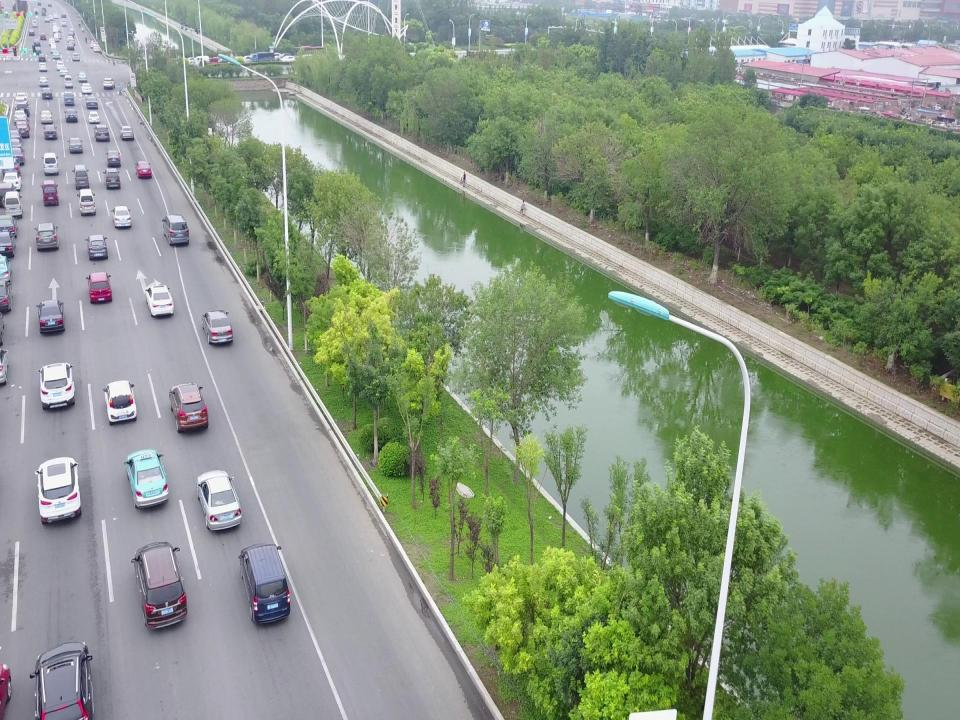bus: (296, 45, 325, 58)
car: (133, 540, 186, 627), (34, 642, 92, 720), (240, 543, 291, 624), (36, 455, 80, 522), (197, 471, 243, 531), (127, 449, 169, 509), (170, 382, 208, 430), (40, 362, 76, 409), (103, 381, 136, 424), (200, 310, 234, 343), (162, 213, 190, 244), (88, 270, 114, 303), (145, 285, 173, 315), (39, 300, 64, 332), (35, 222, 57, 252), (3, 190, 23, 216), (87, 234, 107, 259), (78, 187, 94, 215), (42, 180, 59, 206), (0, 229, 14, 257), (0, 216, 19, 236), (112, 206, 130, 227), (0, 180, 14, 206), (0, 280, 12, 310), (43, 153, 59, 174), (4, 172, 22, 190), (106, 166, 120, 188), (74, 166, 88, 187), (2, 159, 20, 175), (0, 255, 11, 281), (136, 158, 151, 176), (5, 148, 23, 163), (4, 129, 22, 143), (121, 123, 133, 142), (94, 124, 109, 139), (5, 140, 23, 152), (68, 137, 82, 152), (16, 122, 29, 138), (15, 91, 28, 107), (107, 148, 119, 165), (44, 124, 57, 139), (16, 101, 28, 117), (65, 108, 77, 123), (17, 116, 29, 130), (14, 110, 26, 124), (88, 111, 100, 124), (103, 78, 116, 90), (40, 110, 52, 123), (16, 96, 28, 109), (86, 96, 98, 108), (80, 82, 92, 94), (42, 86, 52, 99), (194, 55, 208, 64), (64, 93, 73, 106), (279, 52, 291, 61), (64, 74, 72, 87), (39, 76, 48, 87), (280, 56, 294, 62), (79, 72, 87, 82), (242, 55, 253, 62), (60, 66, 68, 75), (38, 62, 46, 71), (38, 53, 46, 62), (52, 51, 60, 60), (186, 57, 196, 64), (207, 58, 218, 64), (56, 61, 64, 69), (72, 53, 79, 61), (66, 43, 74, 50), (34, 46, 41, 54), (33, 38, 40, 46), (273, 53, 281, 60), (48, 38, 54, 47), (90, 41, 96, 49), (50, 44, 56, 52), (55, 32, 61, 40), (94, 45, 100, 52), (66, 36, 73, 42), (40, 33, 46, 40), (61, 19, 66, 27), (69, 38, 75, 44), (68, 32, 74, 38), (28, 29, 34, 35), (44, 16, 50, 22), (54, 34, 58, 42), (68, 29, 74, 34), (32, 20, 36, 27), (61, 12, 65, 17), (54, 13, 58, 18), (47, 2, 51, 7), (34, 8, 38, 13), (49, 15, 53, 19), (37, 2, 41, 6)
truck: (250, 50, 276, 63), (41, 7, 45, 15)
